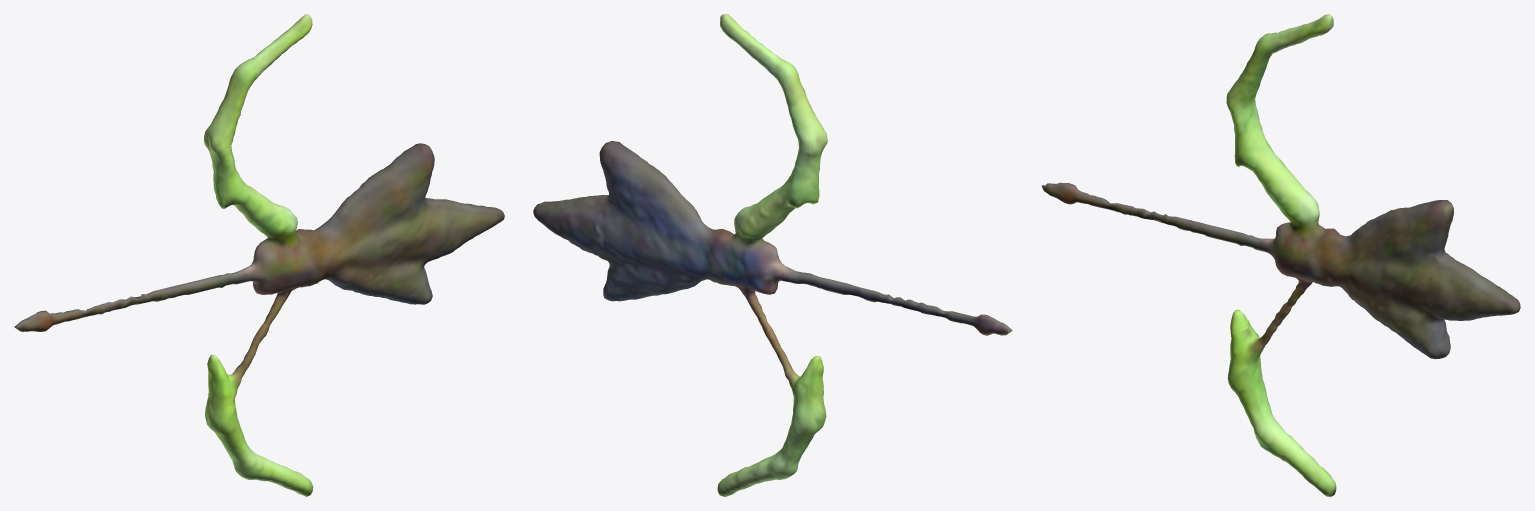
The model's file is Bow.glb.
The picture shows the model from 3 angles, left to right: view 1: azimuth 30°, elevation 25°; view 2: azimuth 150°, elevation 25°; view 3: azimuth 330°, elevation 25°; orthographic projection.
Parts seen in each view (by area): view 1: Mesh1; view 2: Mesh1; view 3: Mesh1.
Boxes of the visible parts, x1,y1,x2,y2 form: Mesh1: (14, 14, 504, 496); Mesh1: (533, 14, 1012, 496); Mesh1: (1041, 14, 1520, 496).
Bounding box in the file's own units: 1.2 × 1.14 × 0.1011.
Materials: 1 (1 with a texture image).
